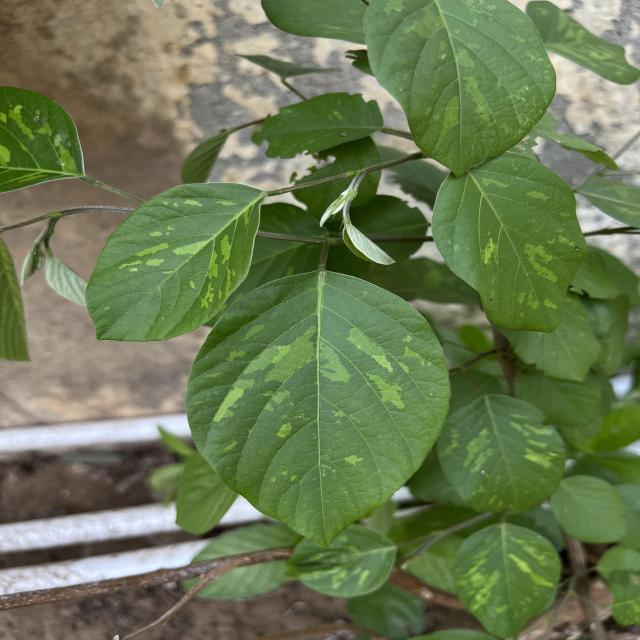Desmodium gangeticum: (182, 269, 454, 550), (360, 0, 560, 183), (80, 180, 268, 346)
